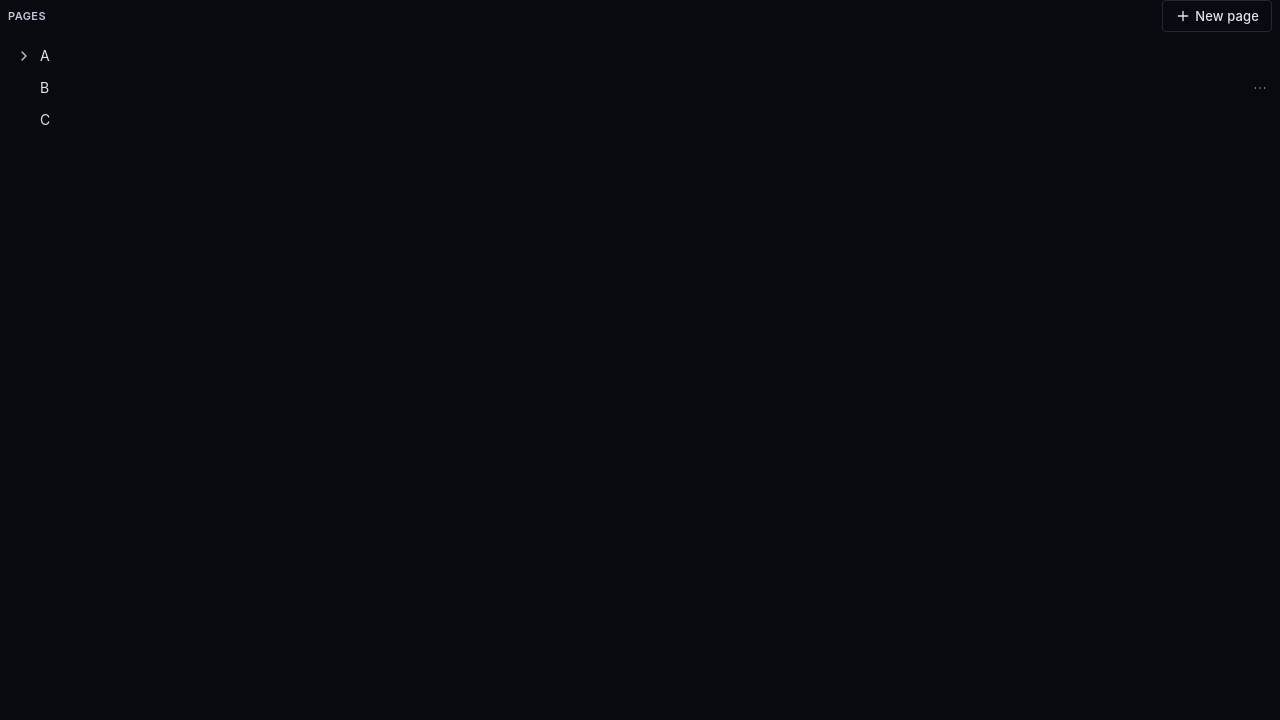
it: SidebarTree: the menu of a row › opens the Move to dialog
Press ContextMenu in the list item "B", box top-left (4, 72), bottom-right (1276, 104)
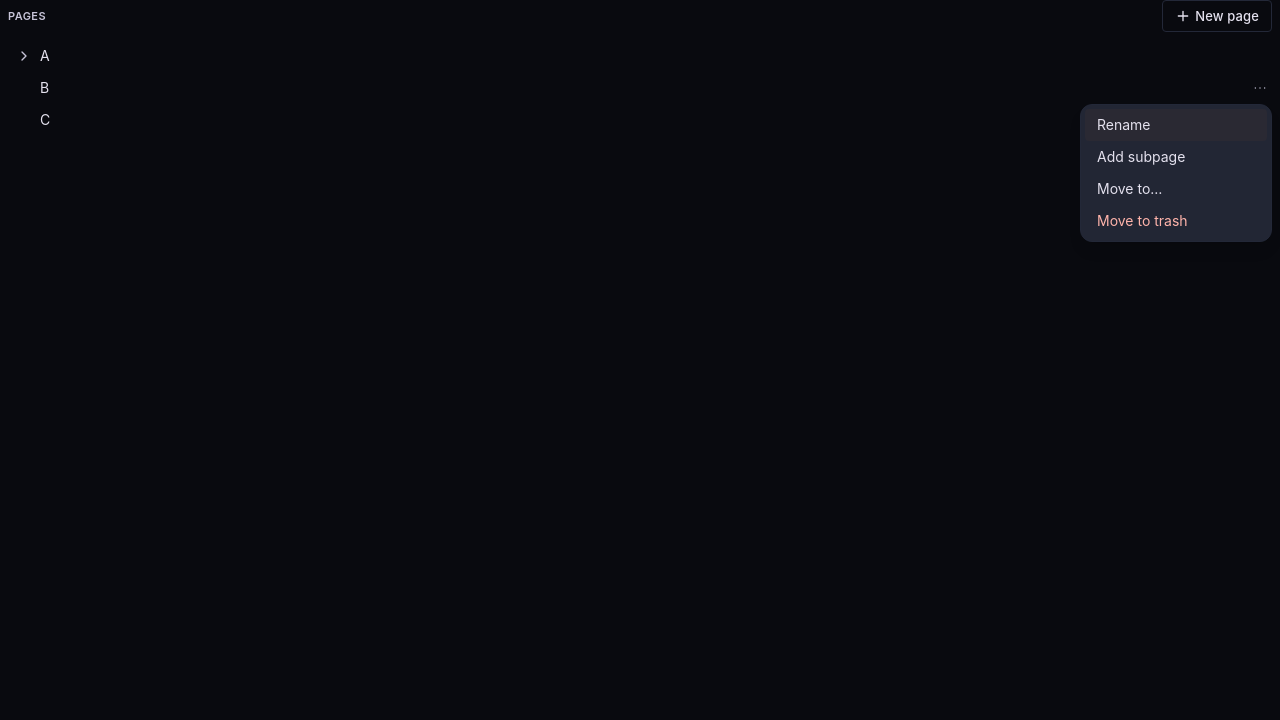
Click the menu item "Move to…" at (1130,188), box top-left (1097, 180), bottom-right (1162, 197)
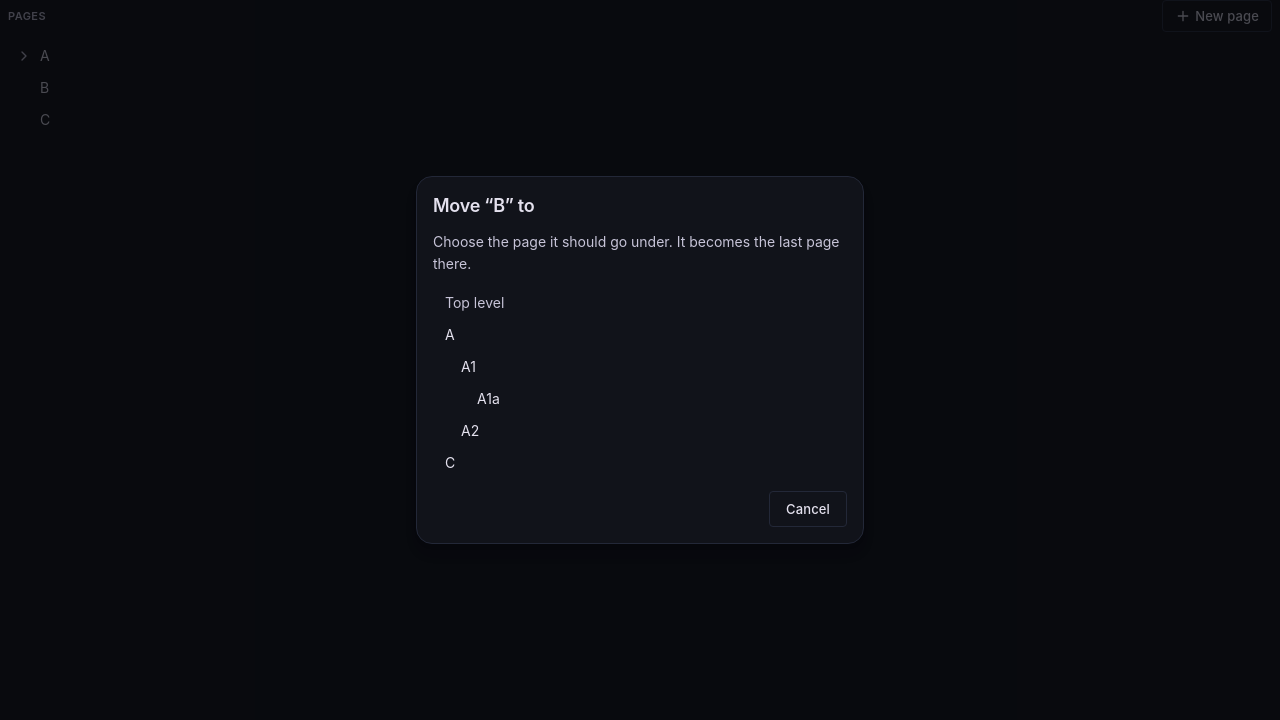
Now the dialog shows "Move “B” to", box top-left (433, 195), bottom-right (534, 216)
